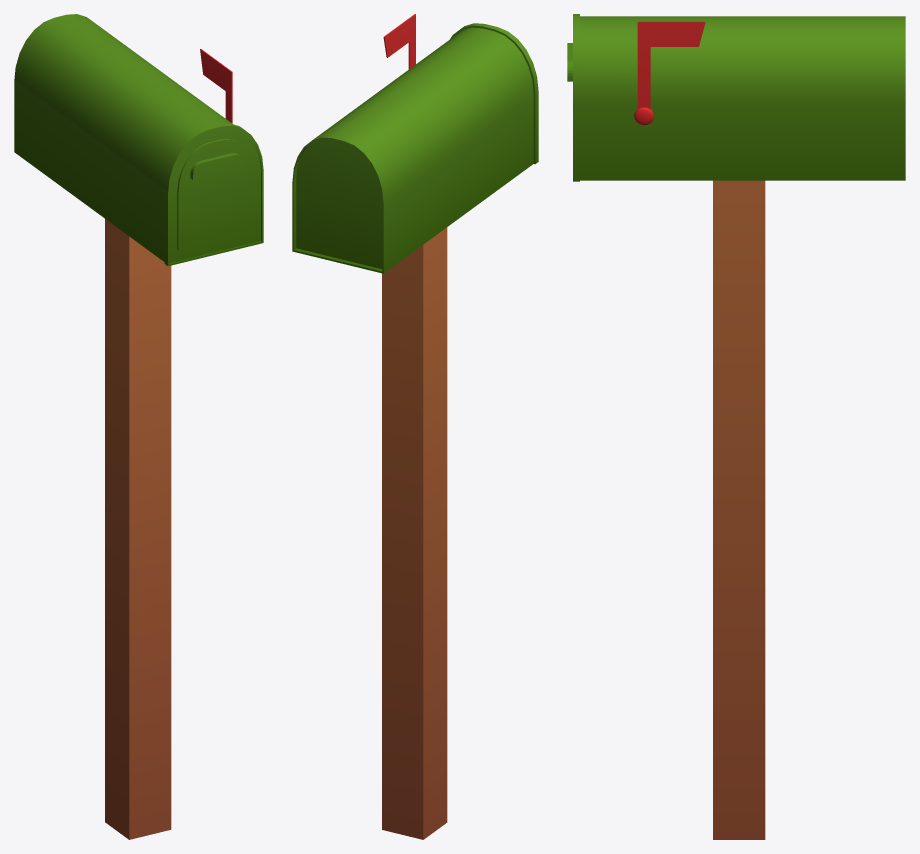
File: mailbox_01_green.glb
3 renders of one model, left to right at view 1: azimuth 30°, elevation 25°; view 2: azimuth 150°, elevation 25°; view 3: azimuth 270°, elevation 25°, orthographic. The views are drawn at different scales.
Visible parts, largest first — view 1: mailbox_01_green, mailbox_01_mail_indicator.002; view 2: mailbox_01_green, mailbox_01_mail_indicator.002; view 3: mailbox_01_green, mailbox_01_mail_indicator.002.
Boxes of the visible parts, x1=… form: mailbox_01_green: x1=14, y1=14, x2=263, y2=839; mailbox_01_mail_indicator.002: x1=200, y1=49, x2=232, y2=123; mailbox_01_green: x1=292, y1=23, x2=538, y2=839; mailbox_01_mail_indicator.002: x1=383, y1=14, x2=415, y2=69; mailbox_01_green: x1=567, y1=14, x2=905, y2=839; mailbox_01_mail_indicator.002: x1=634, y1=21, x2=705, y2=125.
Bounding box in the file's own units: 0.1849 × 1.41 × 0.5188.
1 material, 1 textured.
